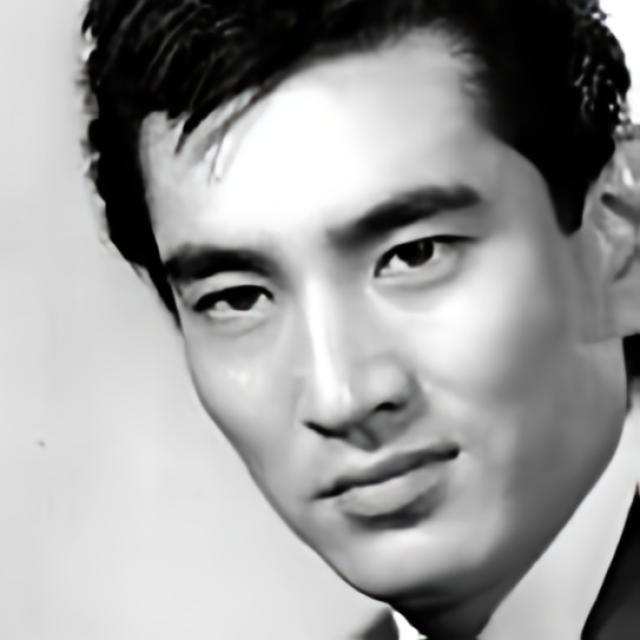content: (138, 9, 628, 604)
